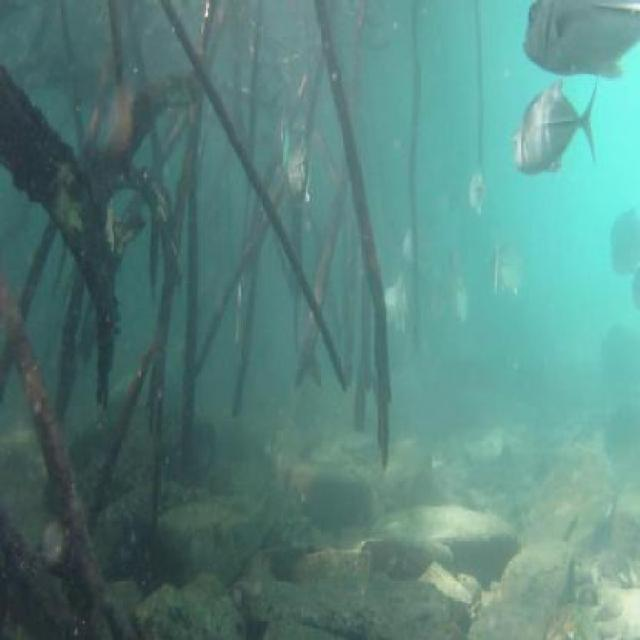Caranx_sexfasciatus_juvenile: (520, 2, 640, 89), (510, 74, 598, 181), (486, 233, 528, 318), (606, 198, 640, 278), (458, 156, 493, 230), (381, 269, 408, 346), (287, 133, 313, 212), (445, 266, 473, 328), (272, 104, 292, 176), (398, 222, 419, 278)
